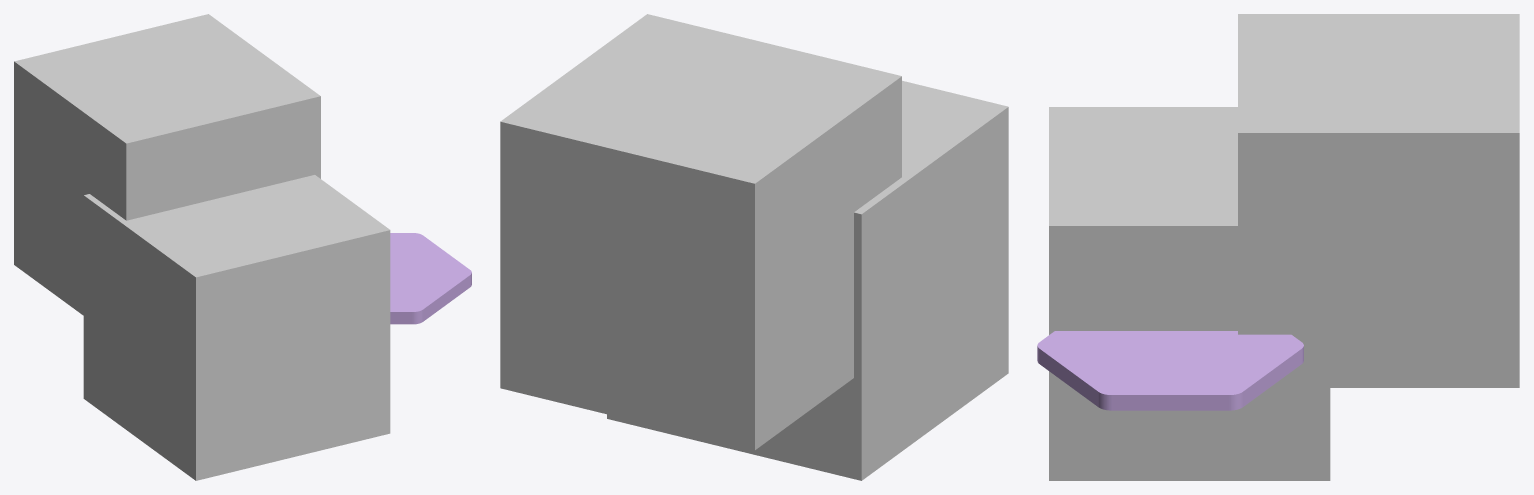
3 views of the same model, side by side, from view 1: azimuth 30°, elevation 25°; view 2: azimuth 150°, elevation 25°; view 3: azimuth 270°, elevation 25° (orthographic). The views are drawn at different scales.
Parts seen in each view (by area): view 1: Cube.001, Cube, Curve; view 2: Cube, Cube.001; view 3: Cube, Cube.001, Curve.
Part boxes in pixels (x1=…): Cube.001: x1=83, y1=175, x2=390, y2=480; Cube: x1=14, y1=14, x2=320, y2=315; Curve: x1=390, y1=233, x2=471, y2=324; Cube: x1=500, y1=14, x2=901, y2=450; Cube.001: x1=607, y1=80, x2=1008, y2=480; Cube: x1=1238, y1=14, x2=1519, y2=387; Cube.001: x1=1049, y1=107, x2=1330, y2=480; Curve: x1=1037, y1=331, x2=1303, y2=410.
Size of the model in its own units: 3.08 by 2.76 by 3.43.
